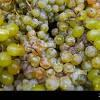Grape Rotten: (0, 0, 100, 91)
